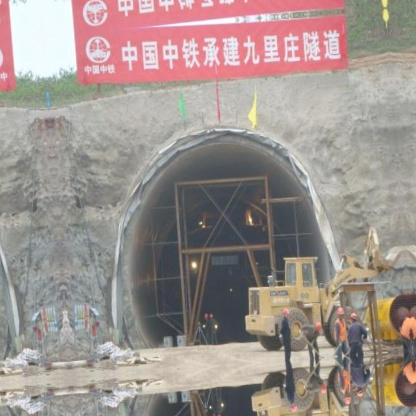red: (314, 321, 324, 332), (348, 311, 358, 319), (282, 307, 291, 315)
vest: (331, 317, 349, 343), (398, 317, 410, 342)
